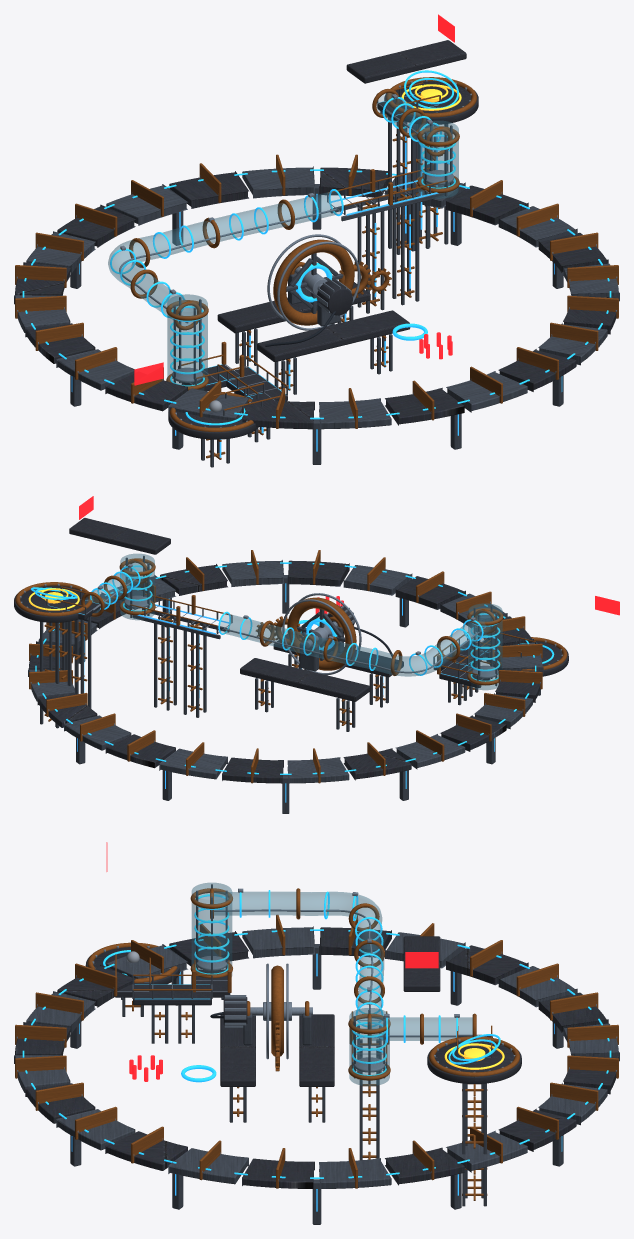
The model's file is assets__levels__level06__level06_orbital_mechanism_high.glb.
3 renders of one model, top to bottom at view 1: azimuth 30°, elevation 25°; view 2: azimuth 150°, elevation 25°; view 3: azimuth 270°, elevation 25°, orthographic. The views are drawn at different scales.
Parts seen in each view (by area): view 1: T01_GlassShell, L01_SafetyGlass, M01_ServiceDeck_South, L02_SafetyGlass, B04_Movable, M01_Rotor_Rim, R01_Segment_04, R01_Segment_16, R01_Segment_05, R01_Segment_17, R01_Segment_15, M01_ServiceDeck_North (+38 smaller); view 2: T01_GlassShell, L01_SafetyGlass, M01_ServiceDeck_North, B04_Movable, L02_SafetyGlass, M01_Rotor_Rim, R01_Segment_19, R01_Segment_20, R01_Segment_08, R01_Segment_07, R01_Segment_18, R01_Segment_06 (+34 smaller); view 3: T01_GlassShell, L01_SafetyGlass, L02_SafetyGlass, M01_ServiceDeck_North, M01_ServiceDeck_South, T02_GlassShell, P02_Deck, R01_Segment_12, R01_Segment_23, R01_Segment_00, R01_Segment_22, R01_Segment_01 (+40 smaller).
Boxes of the visible parts, x1,y1,x2,y2 form: T01_GlassShell: (108, 191, 341, 325); L01_SafetyGlass: (167, 294, 207, 390); M01_ServiceDeck_South: (257, 310, 410, 361); L02_SafetyGlass: (418, 120, 458, 198); B04_Movable: (346, 40, 466, 83); M01_Rotor_Rim: (273, 239, 354, 325); R01_Segment_04: (242, 166, 314, 198); R01_Segment_16: (319, 398, 391, 430); R01_Segment_05: (169, 171, 248, 208); R01_Segment_17: (385, 387, 464, 425); R01_Segment_15: (242, 398, 314, 429); M01_ServiceDeck_North: (217, 282, 370, 333); T01_GlassShell: (220, 613, 492, 676); L01_SafetyGlass: (468, 603, 502, 690); M01_ServiceDeck_North: (240, 658, 370, 701); B04_Movable: (69, 518, 170, 554); L02_SafetyGlass: (120, 553, 154, 620); M01_Rotor_Rim: (287, 597, 356, 670); R01_Segment_19: (287, 560, 349, 586); R01_Segment_20: (222, 560, 283, 586); R01_Segment_08: (287, 757, 349, 784); R01_Segment_07: (222, 757, 283, 783); R01_Segment_18: (343, 565, 412, 595); R01_Segment_06: (159, 748, 227, 779); T01_GlassShell: (214, 891, 384, 1008); L01_SafetyGlass: (191, 882, 232, 976); L02_SafetyGlass: (349, 1008, 389, 1086); M01_ServiceDeck_North: (299, 1014, 334, 1086); M01_ServiceDeck_South: (220, 1014, 255, 1086); T02_GlassShell: (372, 1017, 472, 1040); P02_Deck: (427, 1042, 521, 1083); R01_Segment_12: (242, 926, 314, 958); R01_Segment_23: (242, 1158, 314, 1188); R01_Segment_00: (319, 1158, 391, 1190); R01_Segment_22: (168, 1148, 248, 1184); R01_Segment_01: (385, 1147, 464, 1185).
Bounding box in the file's own units: 48.34 × 20.48 × 46.14.
11 materials, 4 textured.
